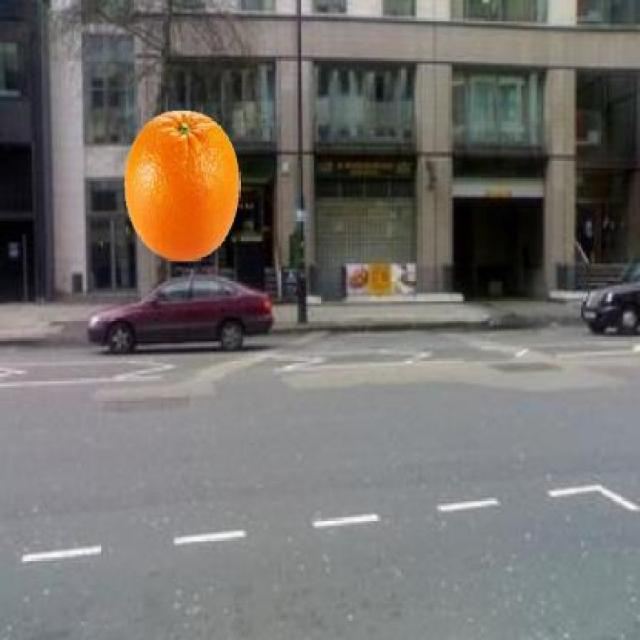Orange: (121, 108, 242, 262)
